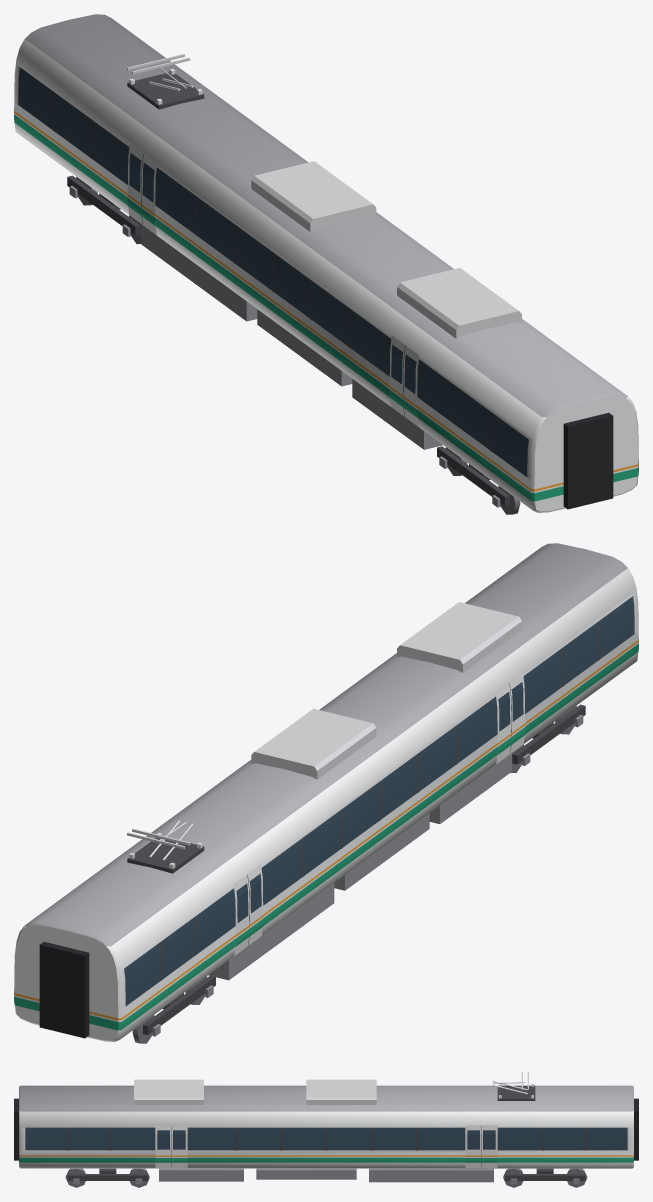
Rendered from middle.fbx.
3 views of the same model, one above another, from view 1: azimuth 30°, elevation 25°; view 2: azimuth 150°, elevation 25°; view 3: azimuth 270°, elevation 25° (orthographic). The views are drawn at different scales.
Visible parts, largest first — view 1: 21_middle; view 2: 21_middle; view 3: 21_middle.
Boxes of the visible parts, bbox=[...] form: 21_middle: bbox=[14, 14, 638, 514]; 21_middle: bbox=[14, 543, 638, 1043]; 21_middle: bbox=[14, 1072, 638, 1187].
Bounding box in the file's own units: 2.97 × 4.35 × 25.
